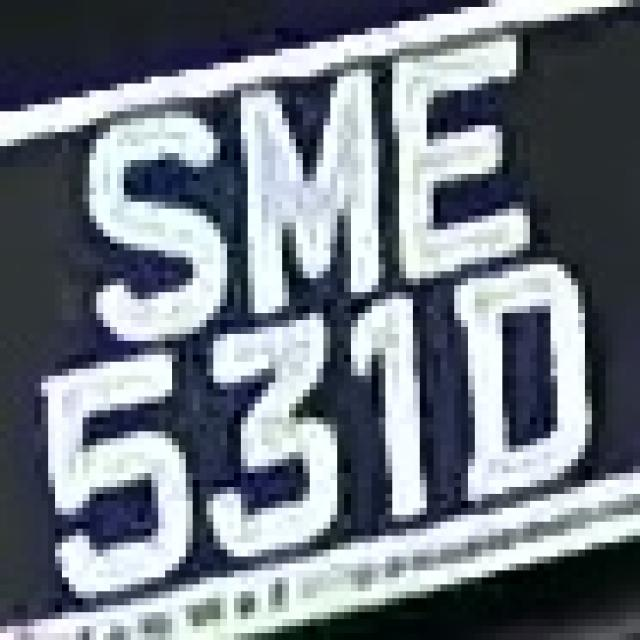1: (358, 278, 454, 550)
3: (200, 306, 337, 557)
5: (28, 355, 206, 598)
D: (447, 250, 606, 501)
E: (364, 35, 550, 278)
M: (213, 56, 399, 306)
S: (76, 83, 234, 341)
